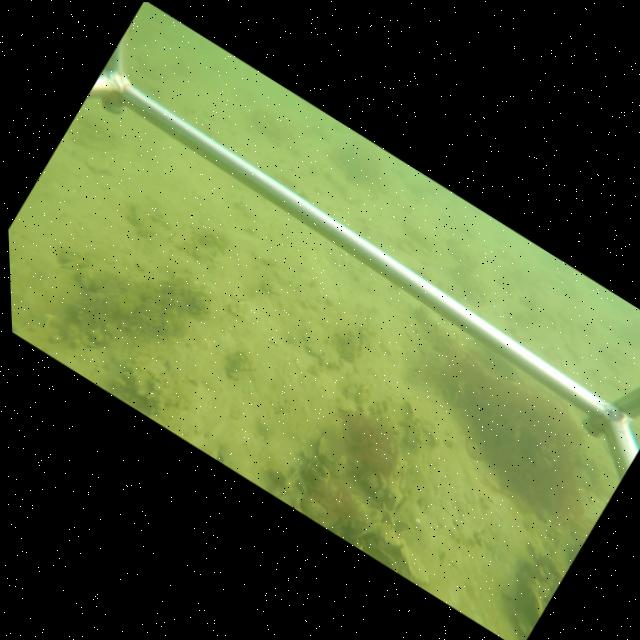Oyster-Indeterminate: (400, 542, 431, 585)
